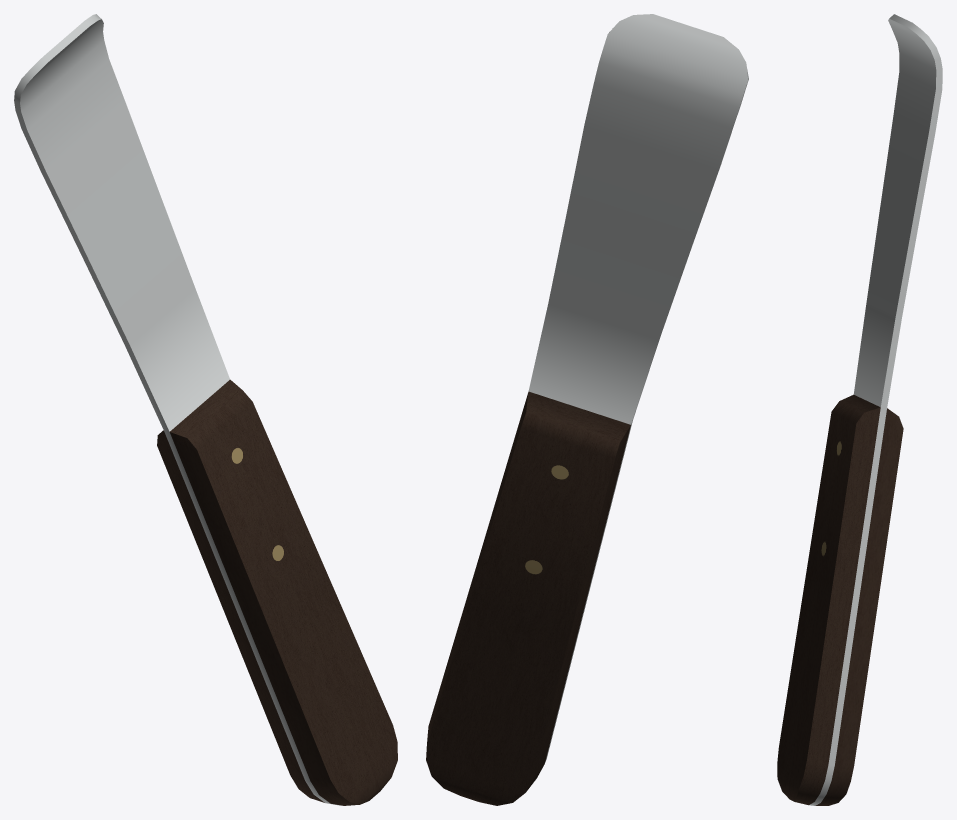
Rendered from PlasterSpatula2.obj.
The picture shows the model from 3 angles, left to right: view 1: azimuth 30°, elevation 25°; view 2: azimuth 150°, elevation 25°; view 3: azimuth 270°, elevation 25°; orthographic projection. The views are drawn at different scales.
Parts seen in each view (by area): view 1: PlasterSpatula2; view 2: PlasterSpatula2; view 3: PlasterSpatula2.
Boxes of the visible parts, x1=… form: PlasterSpatula2: x1=14, y1=14, x2=397, y2=805; PlasterSpatula2: x1=426, y1=14, x2=748, y2=805; PlasterSpatula2: x1=777, y1=14, x2=942, y2=805.
Size of the model in its own units: 3.96 by 9.11 by 1.97.
